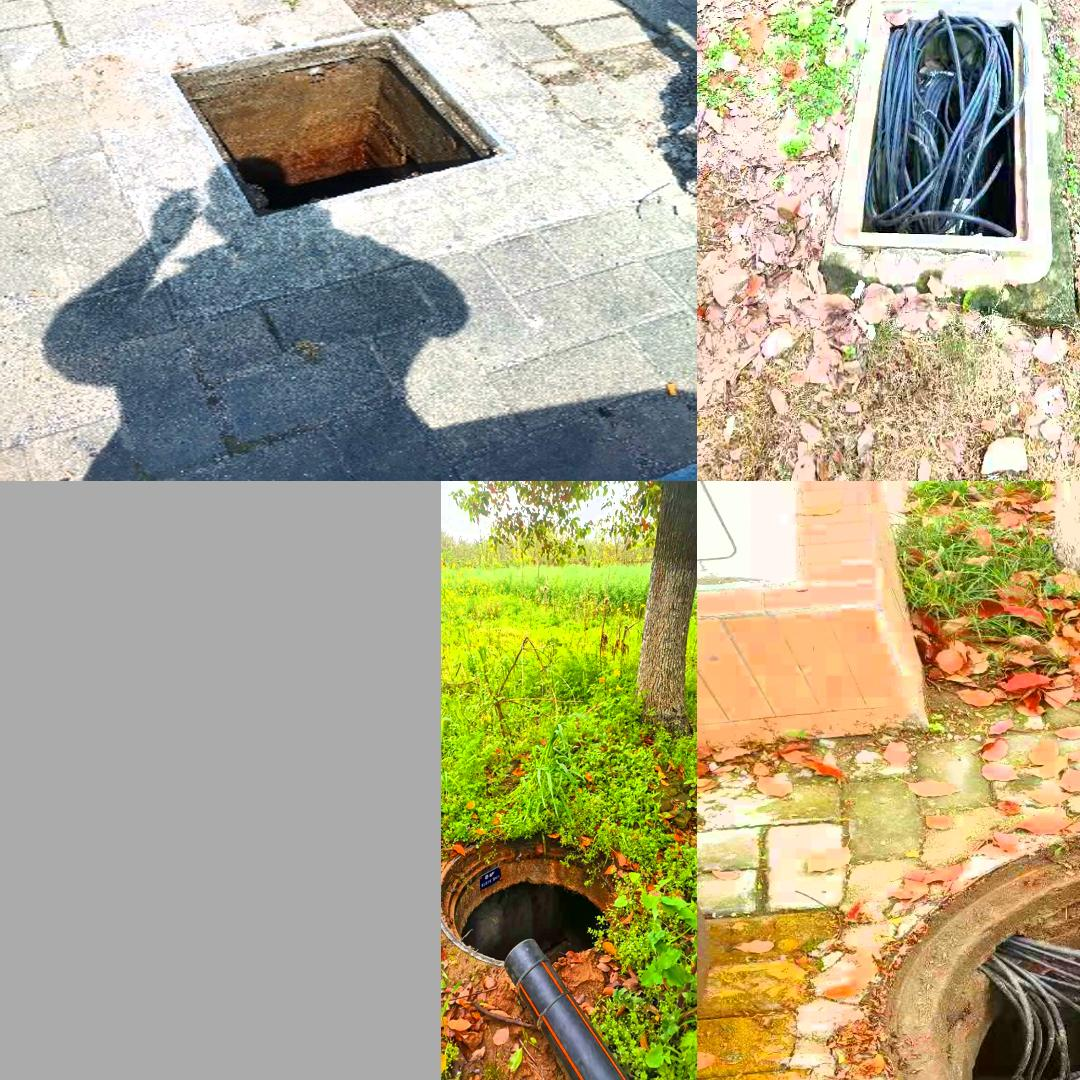lose: (822, 0, 1064, 297), (166, 23, 522, 224), (839, 802, 1080, 1080), (441, 834, 628, 968)
